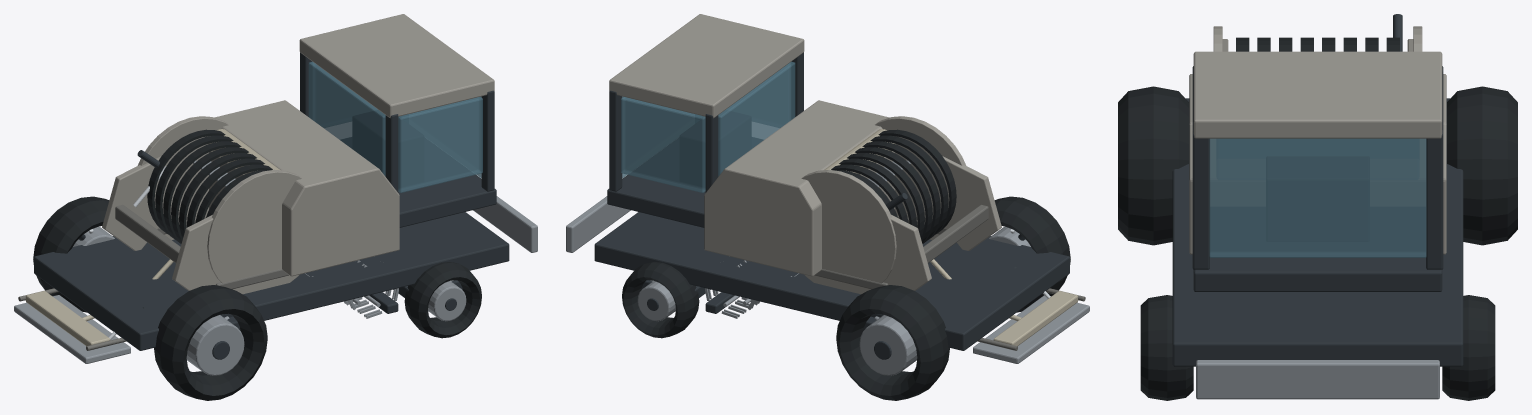
The model's file is vermeer-zr5-1200-structural-study.glb.
3 views of the same model, side by side, from view 1: azimuth 30°, elevation 25°; view 2: azimuth 150°, elevation 25°; view 3: azimuth 270°, elevation 25° (orthographic). The views are drawn at different scales.
Visible parts, largest first — view 1: ZR5_Main_Frame, Power_Module_Tapered_Shell, Cab_Roof, Chamber_R_Side_Ring, Rear_R_Tire, Cab_R_Glass, Cab_Rear_Glass, Cab_Floor, Front_R_Tire, Operator_Seat, Rear_L_Tire, Tailgate_L_Frame (+19 smaller); view 2: ZR5_Main_Frame, Power_Module_Tapered_Shell, Cab_Roof, Chamber_L_Side_Ring, Rear_L_Tire, Cab_L_Glass, Cab_Rear_Glass, Cab_Floor, Front_L_Tire, Operator_Seat, Rear_R_Tire, Tailgate_R_Frame (+19 smaller); view 3: Cab_Front_Glass, ZR5_Main_Frame, Cab_Roof, Cab_Floor, Front_Terminal_Bumper, Rear_L_Tire, Rear_R_Tire, Operator_Seat, Power_Module_Tapered_Shell, Front_L_Tire, Front_R_Tire, Cab_L_Post_F (+1 smaller).
Boxes of the visible parts, box(x1,y1,x2,y2) form: ZR5_Main_Frame: box(34, 212, 509, 350); Power_Module_Tapered_Shell: box(209, 100, 399, 276); Cab_Roof: box(299, 14, 494, 118); Chamber_R_Side_Ring: box(207, 169, 302, 294); Rear_R_Tire: box(154, 285, 267, 400); Cab_R_Glass: box(398, 96, 482, 192); Cab_Rear_Glass: box(308, 61, 385, 176); Cab_Floor: box(341, 137, 496, 227); Front_R_Tire: box(404, 262, 481, 338); Operator_Seat: box(353, 110, 423, 186); Rear_L_Tire: box(33, 196, 109, 312); Tailgate_L_Frame: box(102, 156, 174, 250); ZR5_Main_Frame: box(594, 212, 1069, 350); Power_Module_Tapered_Shell: box(704, 100, 894, 276); Cab_Roof: box(609, 14, 804, 118); Chamber_L_Side_Ring: box(801, 169, 896, 294); Rear_L_Tire: box(836, 285, 949, 400); Cab_L_Glass: box(621, 96, 705, 192); Cab_Rear_Glass: box(718, 61, 795, 176); Cab_Floor: box(607, 137, 762, 227); Front_L_Tire: box(622, 262, 699, 338); Operator_Seat: box(680, 110, 750, 186); Rear_R_Tire: box(994, 196, 1070, 312); Tailgate_R_Frame: box(929, 156, 1001, 250); Cab_Front_Glass: box(1209, 138, 1426, 257); ZR5_Main_Frame: box(1172, 98, 1463, 366); Cab_Roof: box(1193, 51, 1442, 138); Cab_Floor: box(1193, 207, 1442, 291); Front_Terminal_Bumper: box(1196, 360, 1439, 399); Rear_L_Tire: box(1447, 86, 1517, 245); Rear_R_Tire: box(1118, 86, 1188, 245); Operator_Seat: box(1266, 157, 1369, 241); Power_Module_Tapered_Shell: box(1189, 74, 1446, 254); Front_L_Tire: box(1442, 295, 1495, 400); Front_R_Tire: box(1140, 295, 1193, 400); Cab_L_Post_F: box(1426, 130, 1443, 269).
Bounding box in the file's own units: 6.3 × 3.15 × 3.61.
